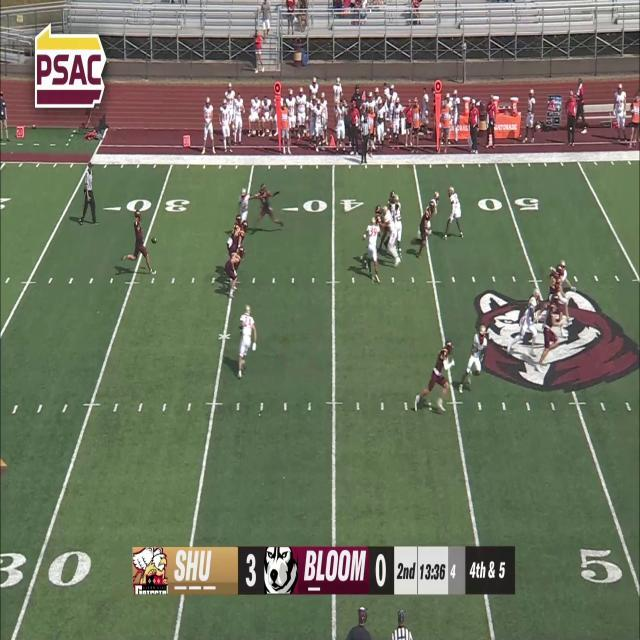football: (150, 237, 158, 244)
